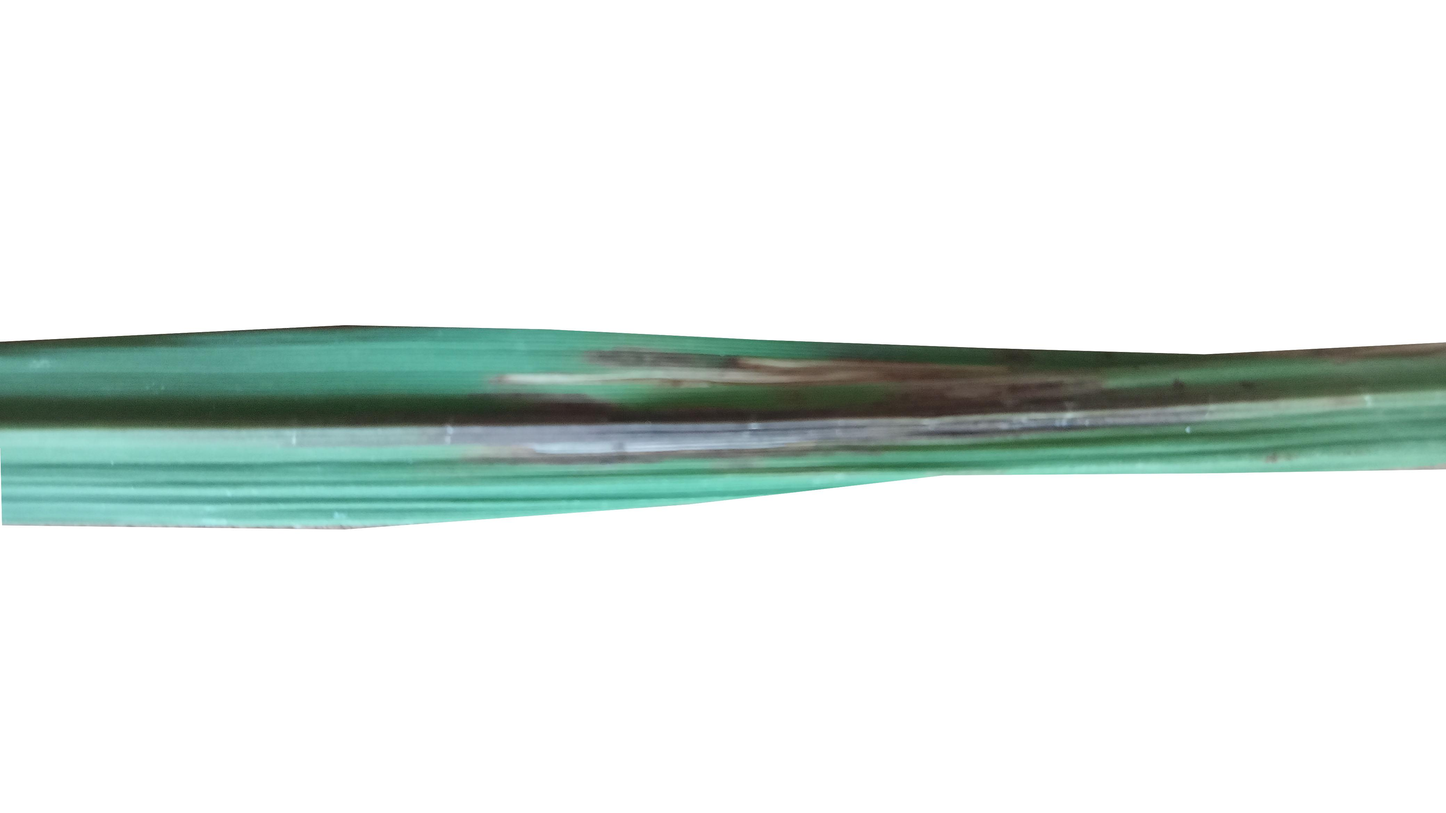Blight: (582, 330, 1149, 469)
